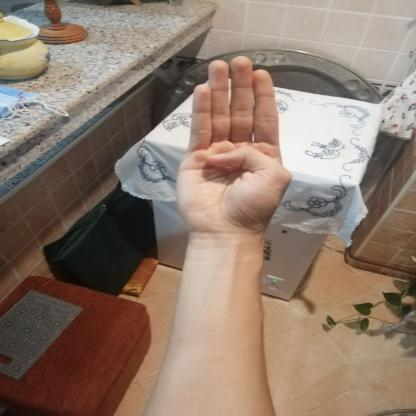KAAF: (160, 43, 307, 246)
